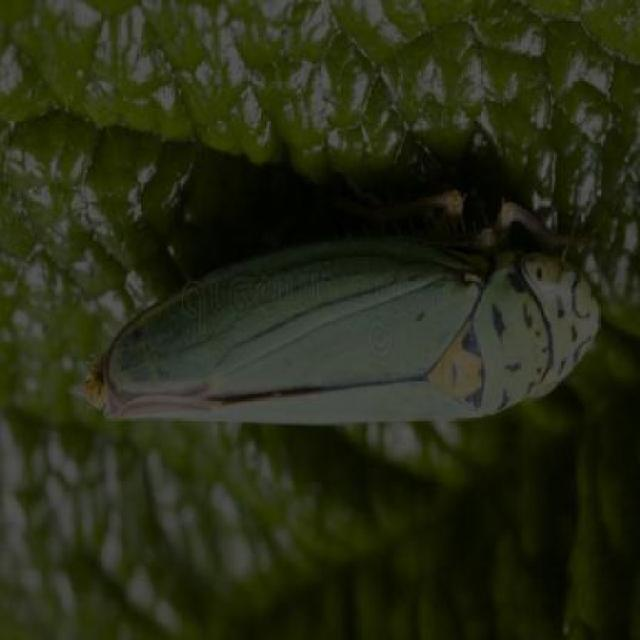green-leafhopper: (100, 226, 603, 432)
